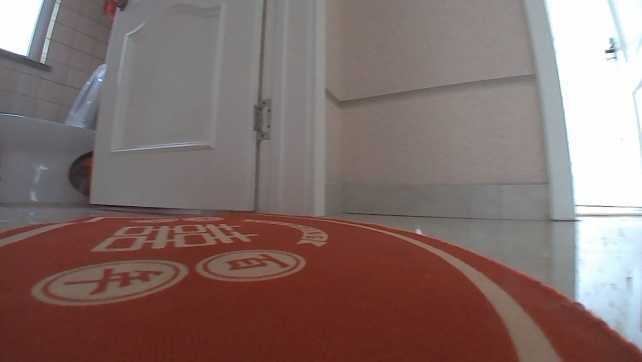blanket: (0, 214, 640, 359)
door_anno: (89, 0, 321, 215)
toilet: (0, 62, 108, 202)
